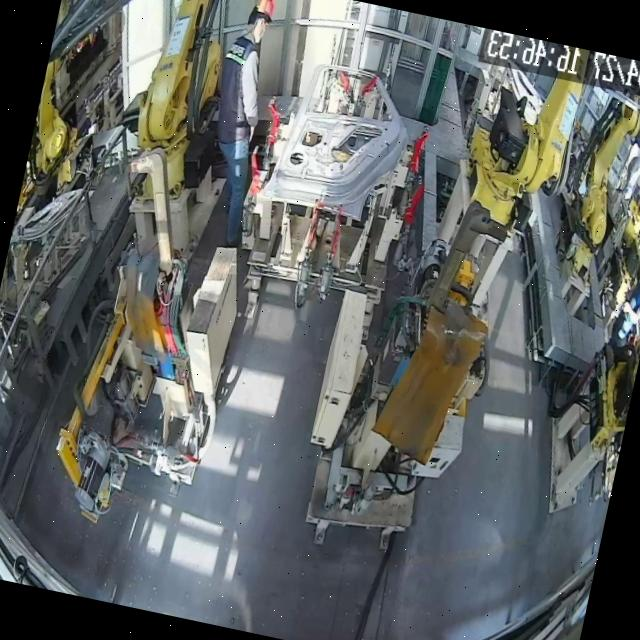Person: (185, 0, 292, 250)
